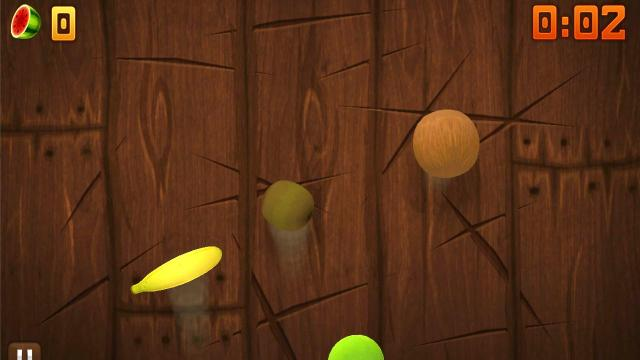fruit: (406, 106, 484, 174), (133, 241, 219, 299), (257, 179, 317, 233), (323, 331, 393, 360)
